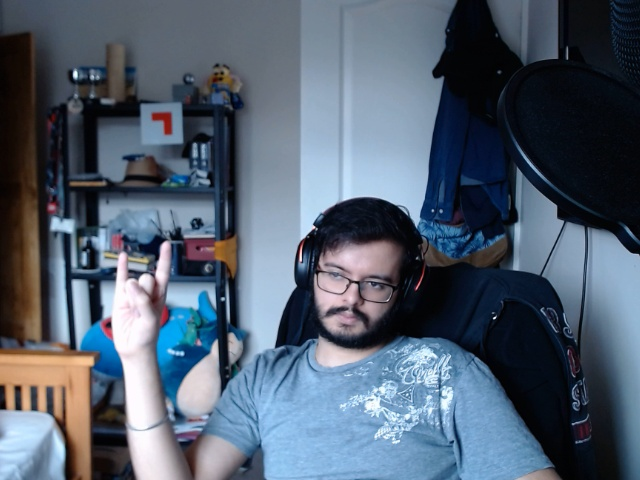Rock on: (95, 237, 187, 359)
